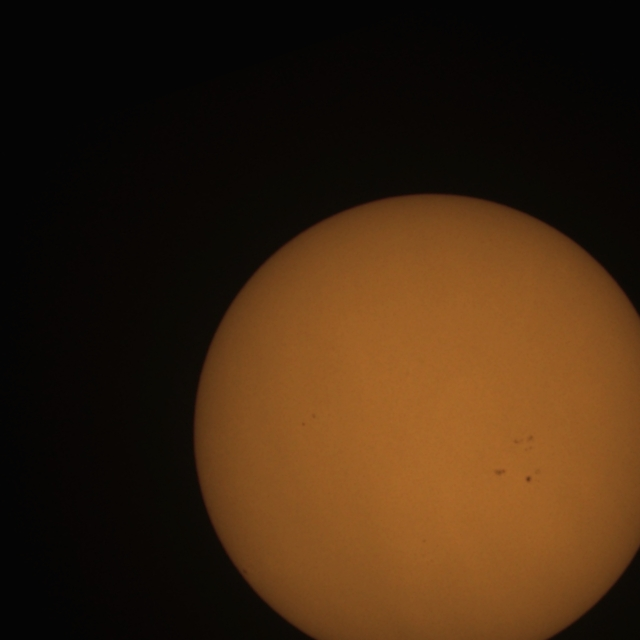sunspot: (512, 434, 536, 452), (524, 467, 542, 484), (300, 412, 317, 428), (492, 467, 508, 478), (524, 474, 534, 484), (242, 568, 248, 576), (300, 421, 306, 428), (422, 538, 427, 544)
